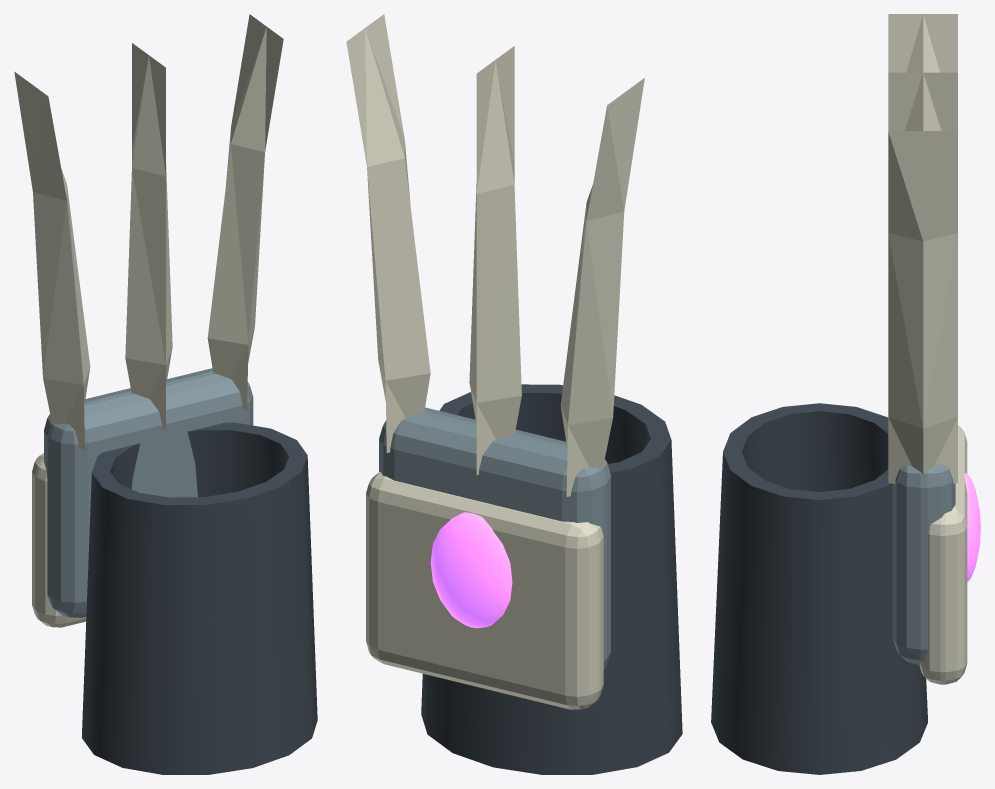
The model's file is YK_02_Claw_Weapon_E01.glb.
3 renders of one model, left to right at view 1: azimuth 30°, elevation 25°; view 2: azimuth 150°, elevation 25°; view 3: azimuth 270°, elevation 25°, orthographic. The views are drawn at different scales.
Parts seen in each view (by area): view 1: SM_YK_02_Claw_Weapon_P00, SM_YK_02_Claw_Weapon_P01; view 2: SM_YK_02_Claw_Weapon_P00, SM_YK_02_Claw_Weapon_P01; view 3: SM_YK_02_Claw_Weapon_P00, SM_YK_02_Claw_Weapon_P01.
Boxes of the visible parts, <box> form: SM_YK_02_Claw_Weapon_P00: <box>14,14,317,774</box>; SM_YK_02_Claw_Weapon_P01: <box>32,453,86,627</box>; SM_YK_02_Claw_Weapon_P00: <box>346,14,682,774</box>; SM_YK_02_Claw_Weapon_P01: <box>366,471,603,709</box>; SM_YK_02_Claw_Weapon_P00: <box>711,14,980,774</box>; SM_YK_02_Claw_Weapon_P01: <box>919,425,967,684</box>.
Size of the model in its own units: 0.2784 by 0.72 by 0.271.
